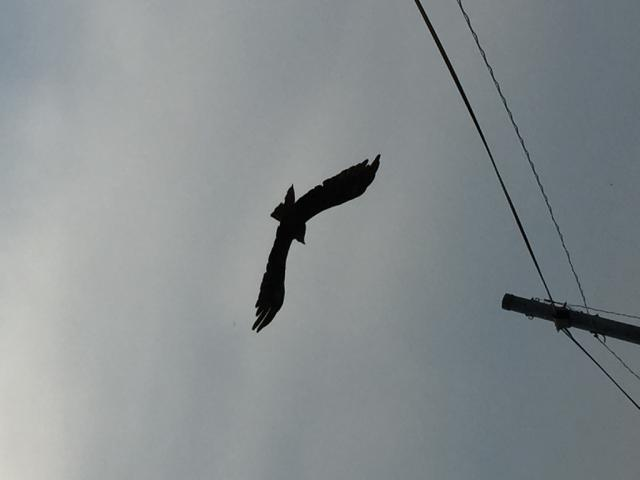Bird: (252, 154, 381, 328)
